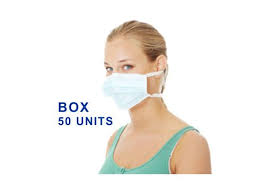mask: (99, 41, 162, 112)
